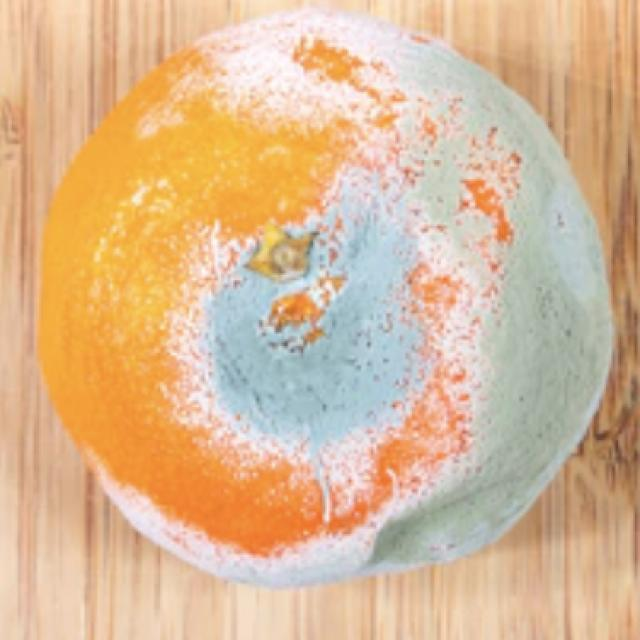sangat-busuk: (108, 18, 612, 586), (209, 220, 419, 451)
